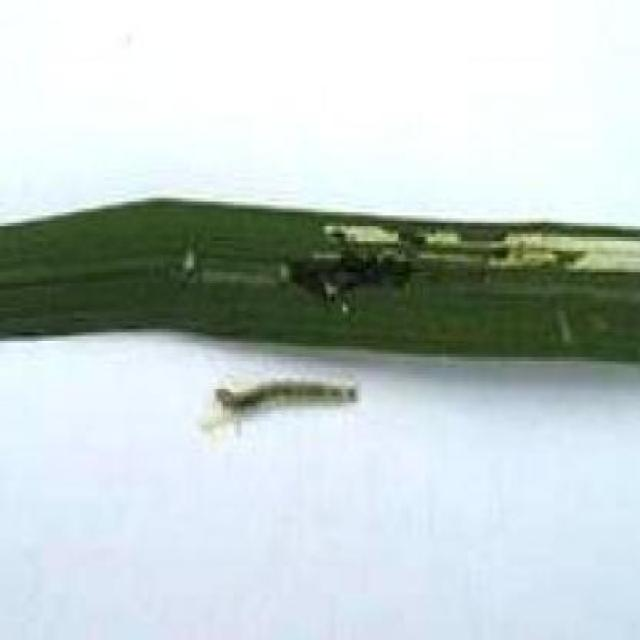leaf-folder: (188, 353, 383, 436)
